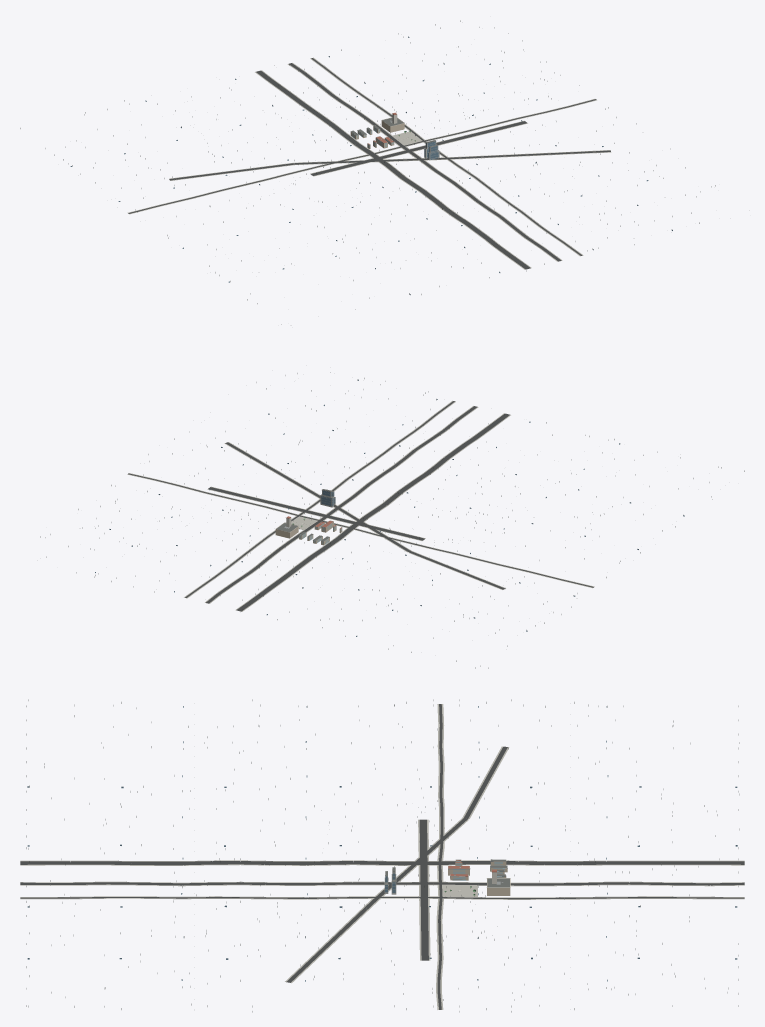
Rendered from tile-p000-p000.glb.
3 renders of one model, top to bottom at view 1: azimuth 30°, elevation 25°; view 2: azimuth 150°, elevation 25°; view 3: azimuth 270°, elevation 25°, orthographic. The views are drawn at different scales.
Parts seen in each view (by area): view 1: road-v-9-mesh-1, road-h-11-mesh-6, road-v-10-mesh-3, road-diagonal-riverside-mesh-8, road-diagonal-riverside-mesh-9, road-v-9-mesh-0, road-v-10-mesh-2, road-v-11-mesh-4, road-h-11-mesh-7, road-radial-0-0-mesh-11, road-v-11-mesh-5; view 2: road-v-9-mesh-1, road-h-11-mesh-6, road-v-10-mesh-3, road-v-9-mesh-0, road-v-10-mesh-2, road-v-11-mesh-4, road-diagonal-riverside-mesh-9, road-h-11-mesh-7, road-diagonal-riverside-mesh-8, road-radial-0-0-mesh-11, road-v-11-mesh-5; view 3: road-v-9-mesh-1, road-v-9-mesh-0, road-v-10-mesh-3, road-v-11-mesh-4, road-v-10-mesh-2, road-v-11-mesh-5, road-diagonal-riverside-mesh-9, road-h-11-mesh-6, road-radial-0-0-mesh-11, road-h-11-mesh-7, road-diagonal-riverside-mesh-8, street-furniture-mesh-88 (+1 smaller).
Boxes of the visible parts, bbox=[...] form: road-v-9-mesh-1: bbox=[256, 70, 530, 269]; road-h-11-mesh-6: bbox=[127, 99, 596, 214]; road-v-10-mesh-3: bbox=[289, 63, 561, 261]; road-diagonal-riverside-mesh-8: bbox=[169, 150, 611, 180]; road-diagonal-riverside-mesh-9: bbox=[169, 150, 610, 180]; road-v-9-mesh-0: bbox=[255, 70, 531, 269]; road-v-10-mesh-2: bbox=[287, 63, 562, 261]; road-v-11-mesh-4: bbox=[310, 57, 583, 256]; road-h-11-mesh-7: bbox=[128, 99, 596, 213]; road-radial-0-0-mesh-11: bbox=[310, 121, 526, 175]; road-v-11-mesh-5: bbox=[311, 58, 582, 255]; road-v-9-mesh-1: bbox=[236, 413, 509, 611]; road-h-11-mesh-6: bbox=[127, 473, 594, 588]; road-v-10-mesh-3: bbox=[206, 406, 477, 603]; road-v-9-mesh-0: bbox=[235, 413, 510, 611]; road-v-10-mesh-2: bbox=[205, 406, 478, 603]; road-v-11-mesh-4: bbox=[184, 400, 455, 598]; road-diagonal-riverside-mesh-9: bbox=[225, 442, 505, 589]; road-h-11-mesh-7: bbox=[128, 473, 593, 587]; road-diagonal-riverside-mesh-8: bbox=[224, 442, 505, 589]; road-radial-0-0-mesh-11: bbox=[208, 487, 424, 540]; road-v-11-mesh-5: bbox=[185, 401, 454, 597]; road-v-9-mesh-1: bbox=[20, 861, 744, 865]; road-v-9-mesh-0: bbox=[20, 860, 744, 865]; road-v-10-mesh-3: bbox=[20, 882, 744, 885]; road-v-11-mesh-4: bbox=[20, 896, 744, 899]; road-v-10-mesh-2: bbox=[20, 881, 744, 886]; road-v-11-mesh-5: bbox=[20, 897, 744, 899]; road-diagonal-riverside-mesh-9: bbox=[286, 746, 507, 982]; road-h-11-mesh-6: bbox=[436, 704, 444, 1009]; road-radial-0-0-mesh-11: bbox=[419, 819, 428, 960]; road-h-11-mesh-7: bbox=[437, 704, 443, 1009]; road-diagonal-riverside-mesh-8: bbox=[285, 746, 509, 983]; street-furniture-mesh-88: bbox=[26, 699, 739, 1012].
Size of the model in its own units: 1628 by 50.38 by 1628.
